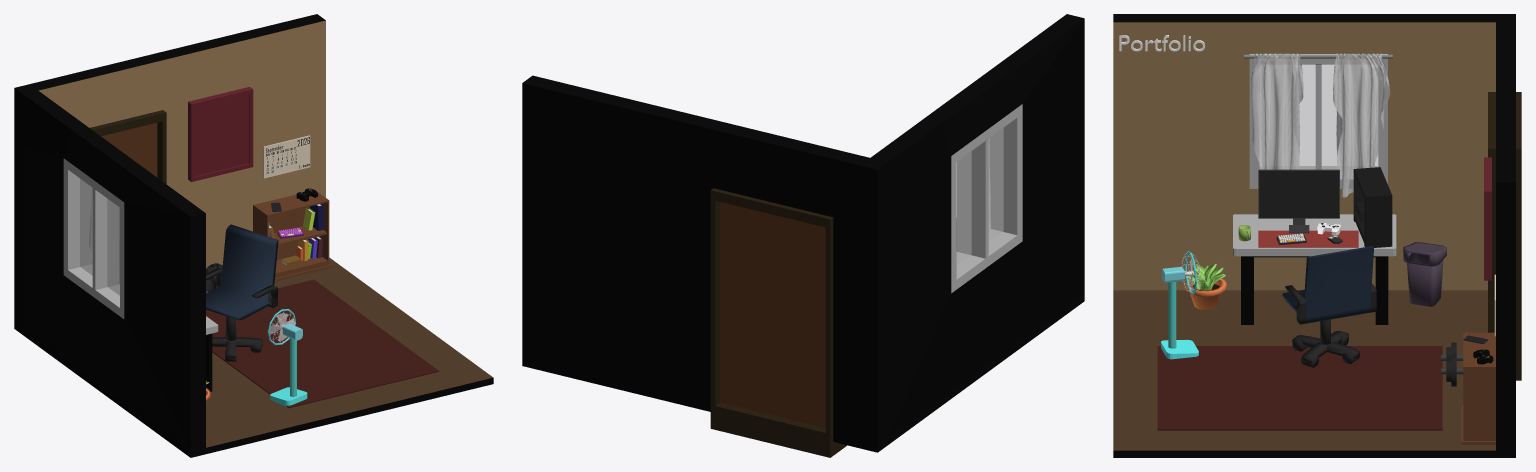
3 views of the same model, side by side, from view 1: azimuth 30°, elevation 25°; view 2: azimuth 150°, elevation 25°; view 3: azimuth 270°, elevation 25° (orthographic). The views are drawn at different scales.
Visible parts, largest first — view 1: Cube.012, Plane.002, Cylinder, Cube, Cube.010, Plane.003, Cube.013, Cube.005, Torus.006, Cube.001; view 2: Cube.012, Cube.013, Plane.003; view 3: Cube.012, Plane.002, Cylinder.006, Cylinder, Cube.001, Cube.002, Cube.010, Plane.003, Cube.003, Cube.004, Torus.006, Plane (+4 smaller).
Boxes of the visible parts, left/top/right/bottom form: Cube.012: left=14, top=14, right=493, bottom=457; Plane.002: left=206, top=279, right=438, bottom=408; Cylinder: left=206, top=224, right=278, bottom=361; Cube: left=188, top=86, right=253, bottom=181; Cube.010: left=253, top=191, right=331, bottom=281; Plane.003: left=80, top=179, right=119, bottom=295; Cube.013: left=101, top=123, right=157, bottom=238; Cube.005: left=263, top=135, right=310, bottom=178; Torus.006: left=267, top=309, right=307, bottom=406; Cube.001: left=206, top=316, right=218, bottom=391; Cube.012: left=522, top=14, right=1084, bottom=457; Cube.013: left=720, top=202, right=825, bottom=428; Plane.003: left=956, top=128, right=1003, bottom=264; Cube.012: left=1113, top=14, right=1521, bottom=457; Plane.002: left=1157, top=346, right=1442, bottom=430; Cylinder.006: left=1244, top=53, right=1392, bottom=197; Cylinder: left=1282, top=246, right=1376, bottom=367; Cube.001: left=1233, top=214, right=1396, bottom=324; Cube.002: left=1258, top=169, right=1339, bottom=233; Cube.010: left=1461, top=332, right=1495, bottom=444; Plane.003: left=1259, top=64, right=1378, bottom=169; Cube.003: left=1353, top=167, right=1392, bottom=247; Cube.004: left=1403, top=242, right=1446, bottom=306; Torus.006: left=1161, top=251, right=1200, bottom=359; Plane: left=1258, top=230, right=1358, bottom=247.
Bounding box in the file's own units: 10 × 7.81 × 10.
